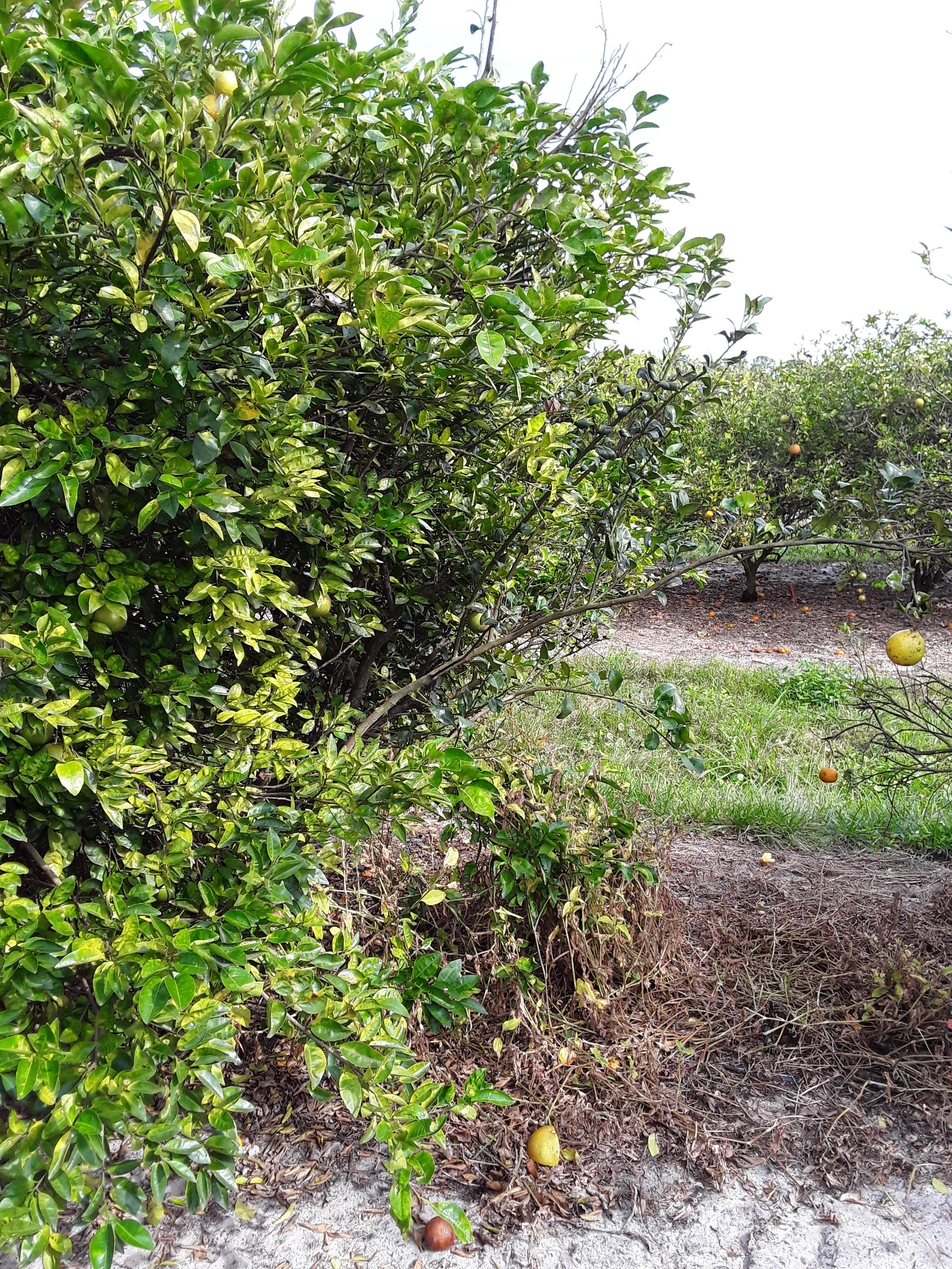fruit_on_ground: (884, 623, 927, 667), (194, 92, 226, 122), (211, 69, 241, 98), (304, 589, 334, 618), (465, 605, 494, 633), (818, 764, 838, 784), (778, 413, 791, 425), (788, 443, 800, 456), (911, 397, 924, 407), (858, 571, 867, 582), (704, 510, 714, 518), (857, 593, 867, 601), (658, 505, 665, 513)
fruit_on_tree: (525, 1123, 565, 1167), (419, 1213, 460, 1253), (848, 611, 856, 619), (835, 649, 844, 656), (800, 605, 810, 611), (751, 615, 759, 622), (778, 646, 785, 654), (766, 646, 773, 654), (770, 612, 777, 620), (691, 595, 700, 601), (754, 647, 761, 654), (718, 593, 725, 600), (758, 592, 765, 599), (730, 576, 738, 582), (708, 611, 715, 617), (687, 599, 694, 605), (772, 646, 779, 652), (856, 587, 863, 593), (755, 580, 760, 586)
